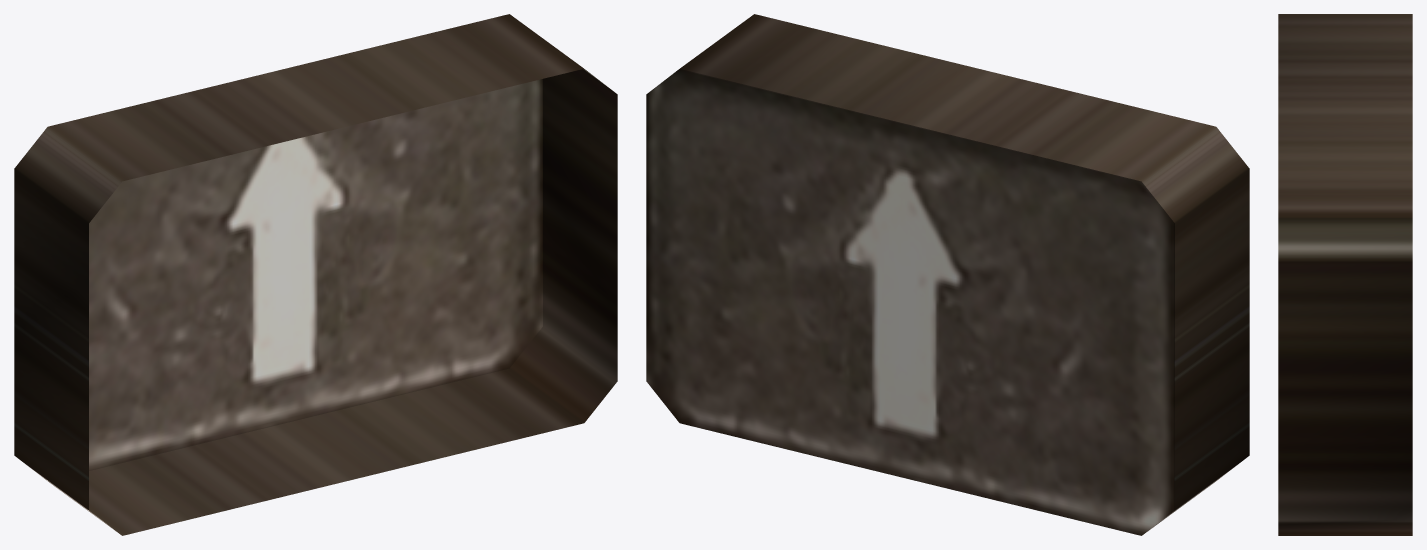
File: MCD Lower Buttons.obj
The picture shows the model from 3 angles, left to right: view 1: azimuth 30°, elevation 25°; view 2: azimuth 150°, elevation 25°; view 3: azimuth 270°, elevation 25°; orthographic projection. The views are drawn at different scales.
Visible parts, largest first — view 1: MCD_BigBtn; view 2: MCD_BigBtn; view 3: MCD_BigBtn.
Part boxes in pixels (x1,y1,x2,y2): MCD_BigBtn: (14, 14, 617, 535); MCD_BigBtn: (646, 14, 1249, 535); MCD_BigBtn: (1278, 14, 1412, 535).
Size of the model in its own units: 10.2 by 6.54 by 2.5.
